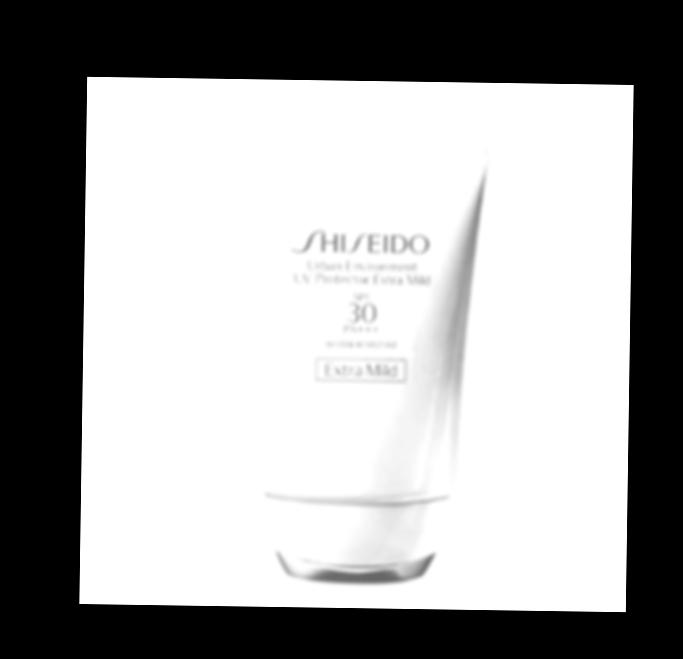cosmetic: (230, 139, 491, 589)
